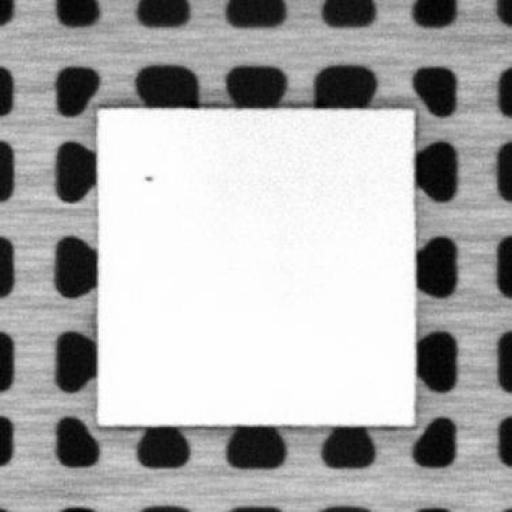DIE_INK: (138, 170, 155, 184)
